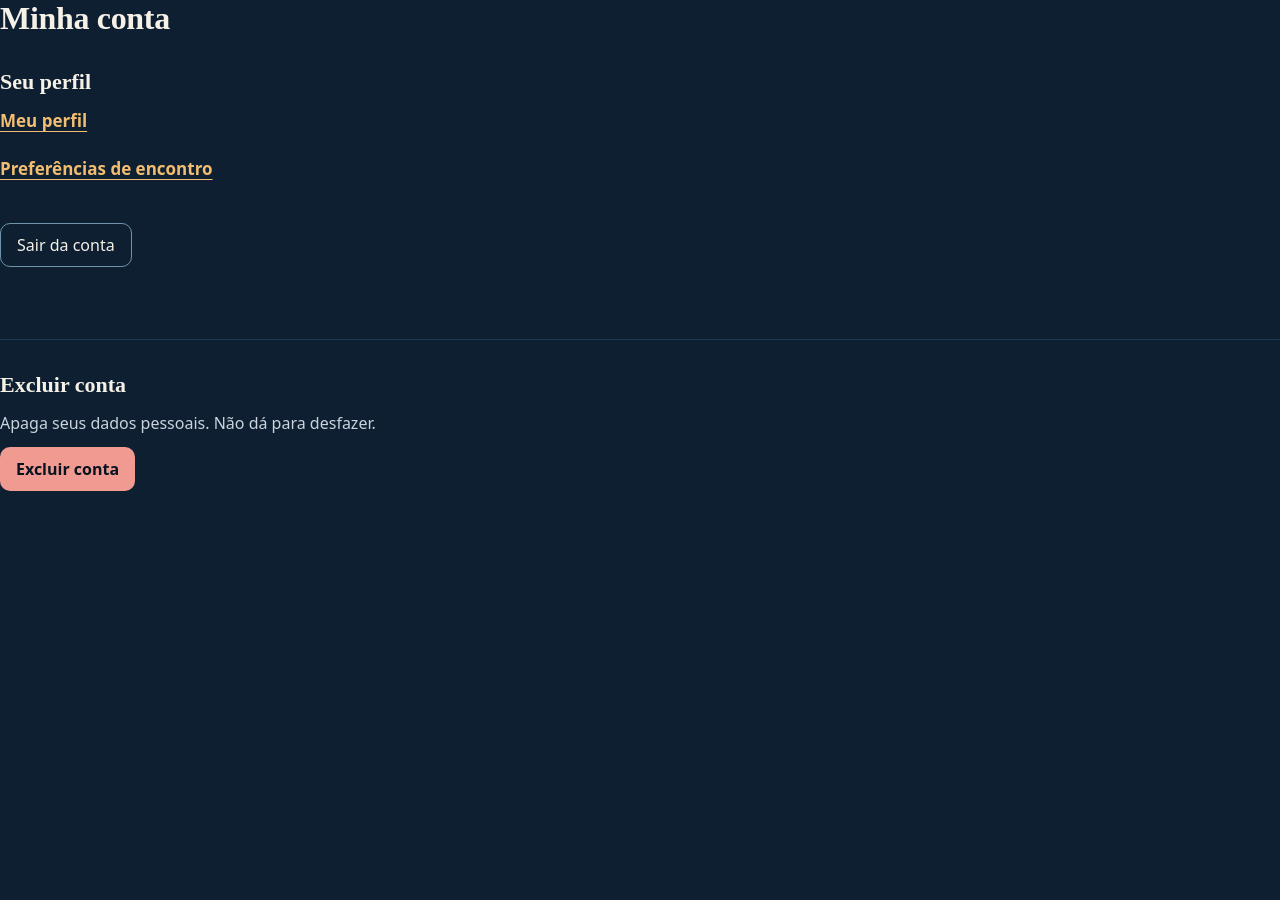
Test: MinhaConta › duploToqueNaConfirmacaoEnviaUmaVez
Click the button "Excluir conta" at (68, 469), box [0,447,135,491]
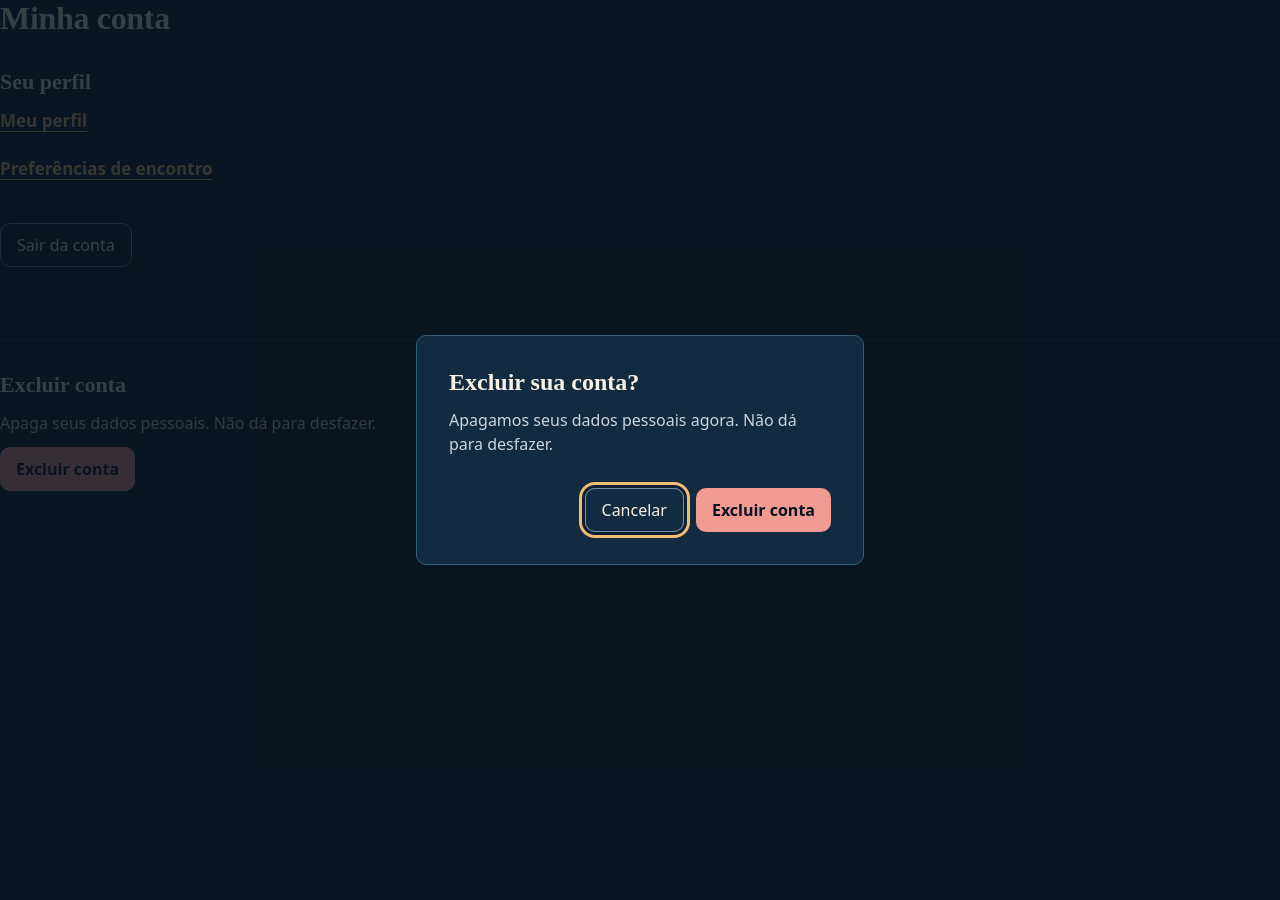
Click the button "Excluir conta" at (763, 510), box [696,488,831,532]
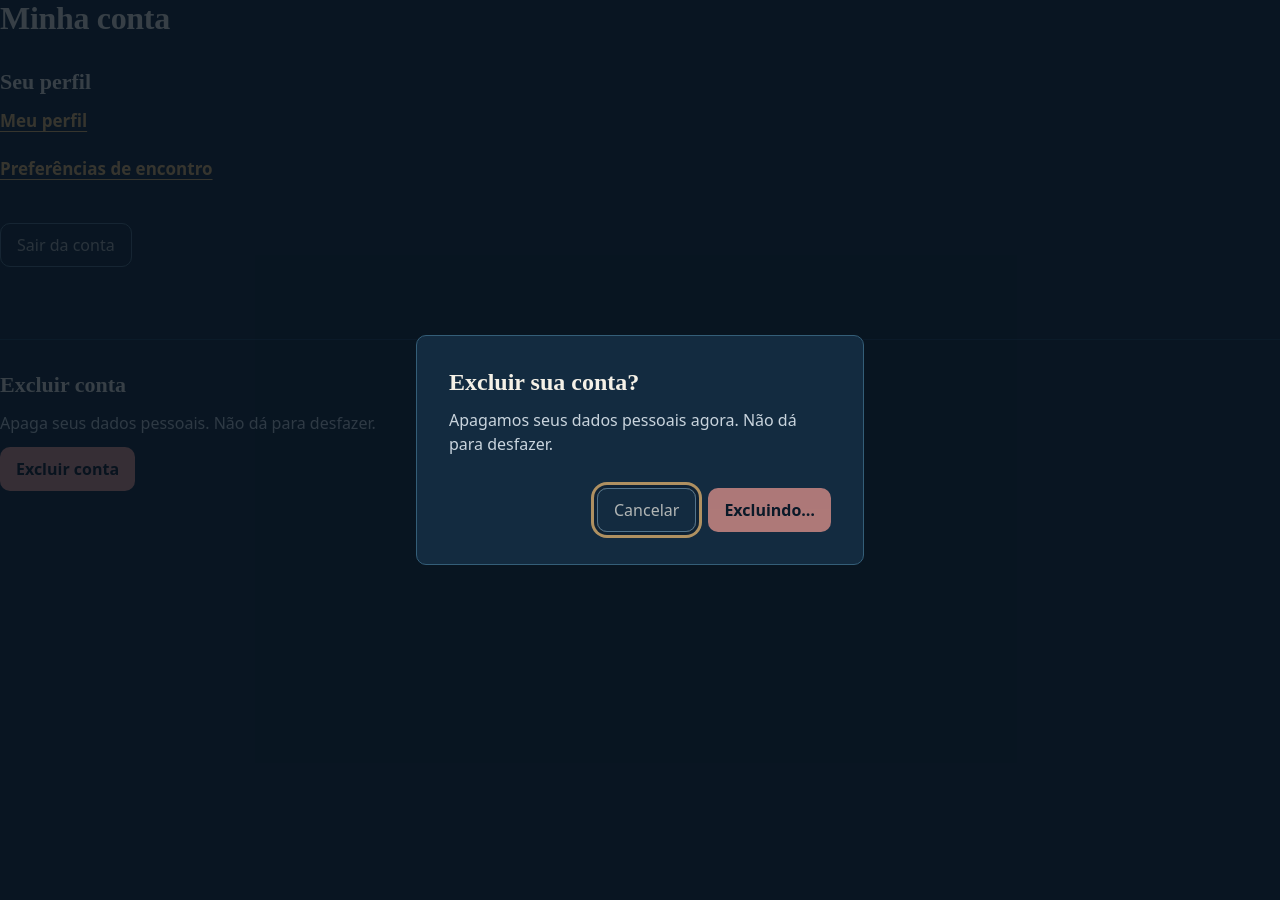
Click the button named "Excluir conta" at (770, 510), box [708,488,831,532]
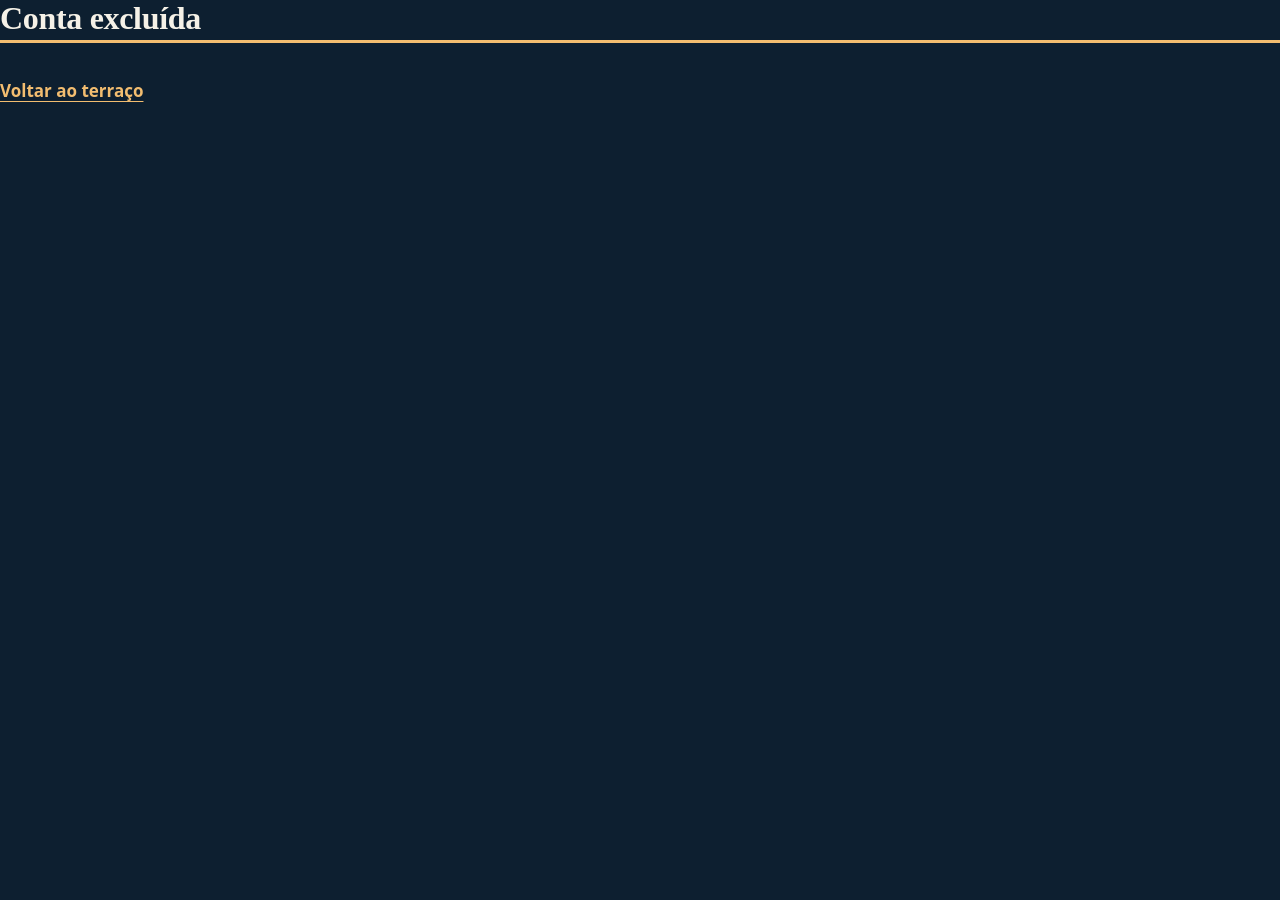
expect the heading "Conta excluída" is shown: met, box [0,0,1279,37]
